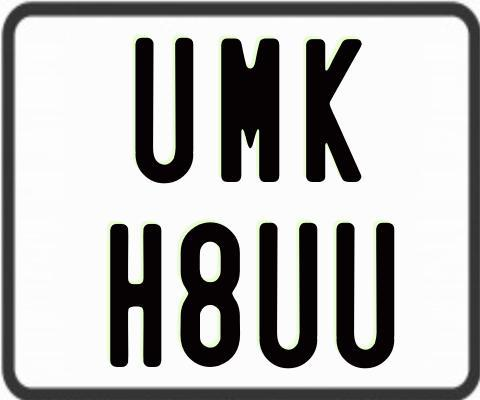8: (178, 221, 241, 372)
H: (107, 224, 160, 373)
K: (305, 36, 365, 184)
M: (219, 37, 283, 186)
U: (333, 221, 397, 371), (133, 37, 195, 186), (259, 222, 317, 370)
